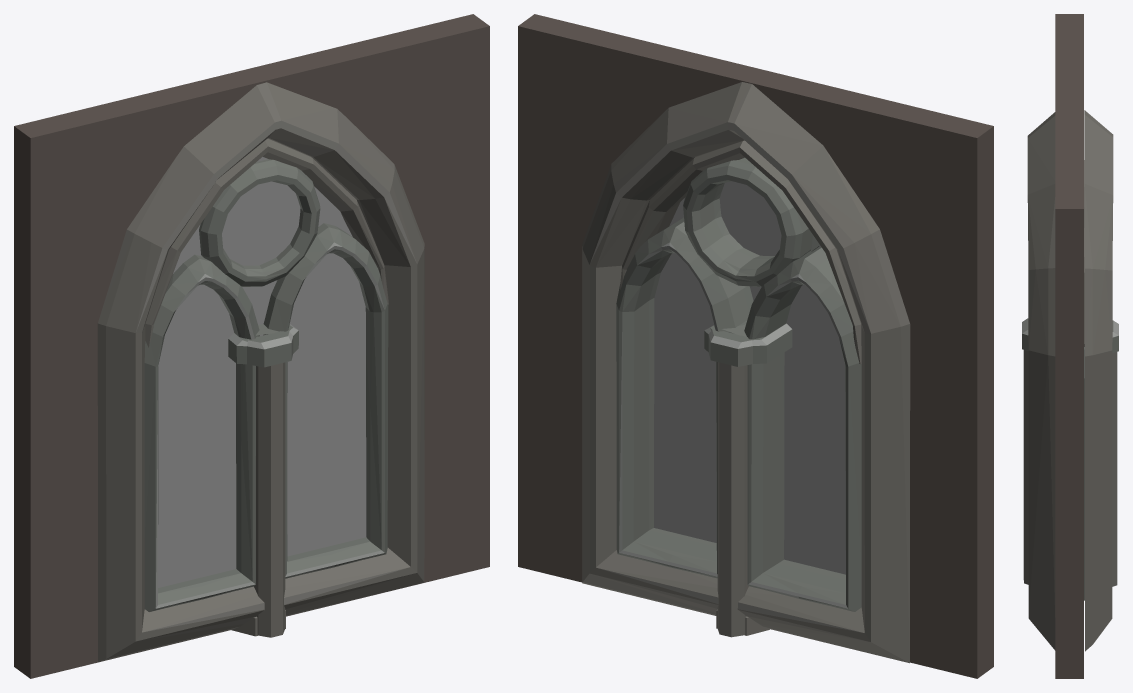
File: MCastle_WindowWall_02.FBX
3 renders of one model, left to right at view 1: azimuth 30°, elevation 25°; view 2: azimuth 150°, elevation 25°; view 3: azimuth 270°, elevation 25°, orthographic. The views are drawn at different scales.
Parts seen in each view (by area): view 1: MCastle_WindowWall_02_LOD0, MCastle_WindowWall_02_Glass_LOD0; view 2: MCastle_WindowWall_02_LOD0, MCastle_WindowWall_02_Glass_LOD0; view 3: MCastle_WindowWall_02_LOD0.
Part boxes in pixels (x1,y1,x2,y2): MCastle_WindowWall_02_LOD0: (14, 14, 489, 678); MCastle_WindowWall_02_Glass_LOD0: (158, 157, 366, 587); MCastle_WindowWall_02_LOD0: (518, 14, 993, 678); MCastle_WindowWall_02_Glass_LOD0: (654, 181, 845, 574); MCastle_WindowWall_02_LOD0: (1022, 14, 1118, 678).
Size of what is drawn, in the model's own units: 157 by 177 by 33.12.
